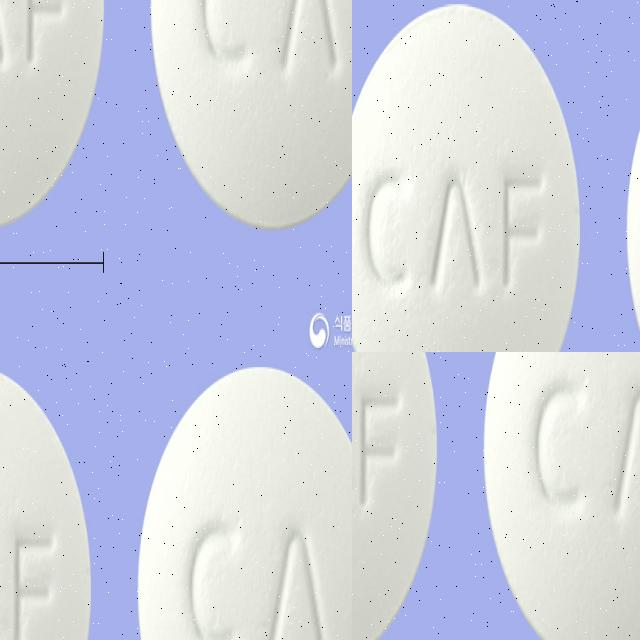Ciflox-Q: (481, 352, 640, 640), (352, 352, 440, 640)
Clafacin -500mg: (352, 182, 623, 352)
Clycin: (0, 0, 147, 226)
